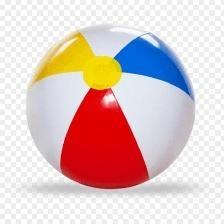Sports-Ball: (22, 25, 196, 192)
